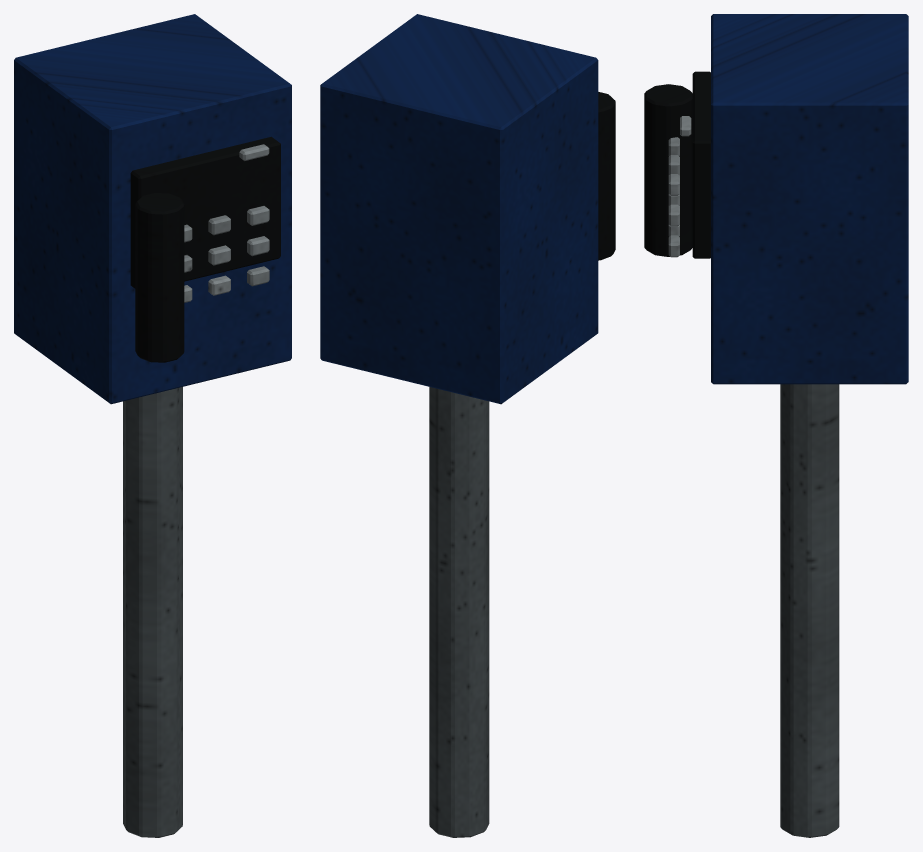
Rendered from PROP-D754A11E670E_lod1.glb.
3 views of the same model, side by side, from view 1: azimuth 30°, elevation 25°; view 2: azimuth 150°, elevation 25°; view 3: azimuth 270°, elevation 25° (orthographic).
Parts seen in each view (by area): view 1: cabinet.012, fixture_post.007, recessed_front.012, handset.004, phone_keypad.004; view 2: cabinet.012, fixture_post.007, handset.004; view 3: cabinet.012, fixture_post.007, handset.004, recessed_front.012, phone_keypad.004.
Boxes of the visible parts, x1=… form: cabinet.012: x1=14, y1=14, x2=291, y2=404; fixture_post.007: x1=123, y1=387, x2=182, y2=837; recessed_front.012: x1=130, y1=136, x2=280, y2=288; handset.004: x1=135, y1=193, x2=184, y2=362; phone_keypad.004: x1=184, y1=206, x2=269, y2=302; cabinet.012: x1=320, y1=14, x2=598, y2=404; fixture_post.007: x1=429, y1=387, x2=489, y2=837; handset.004: x1=598, y1=92, x2=615, y2=260; cabinet.012: x1=711, y1=14, x2=908, y2=384; fixture_post.007: x1=780, y1=384, x2=839, y2=837; handset.004: x1=644, y1=84, x2=692, y2=256; recessed_front.012: x1=692, y1=71, x2=710, y2=258; phone_keypad.004: x1=668, y1=137, x2=679, y2=257.
Size of the model in its own units: 0.38 by 1.5 by 0.4678.
Materials: 4 (4 with a texture image).
